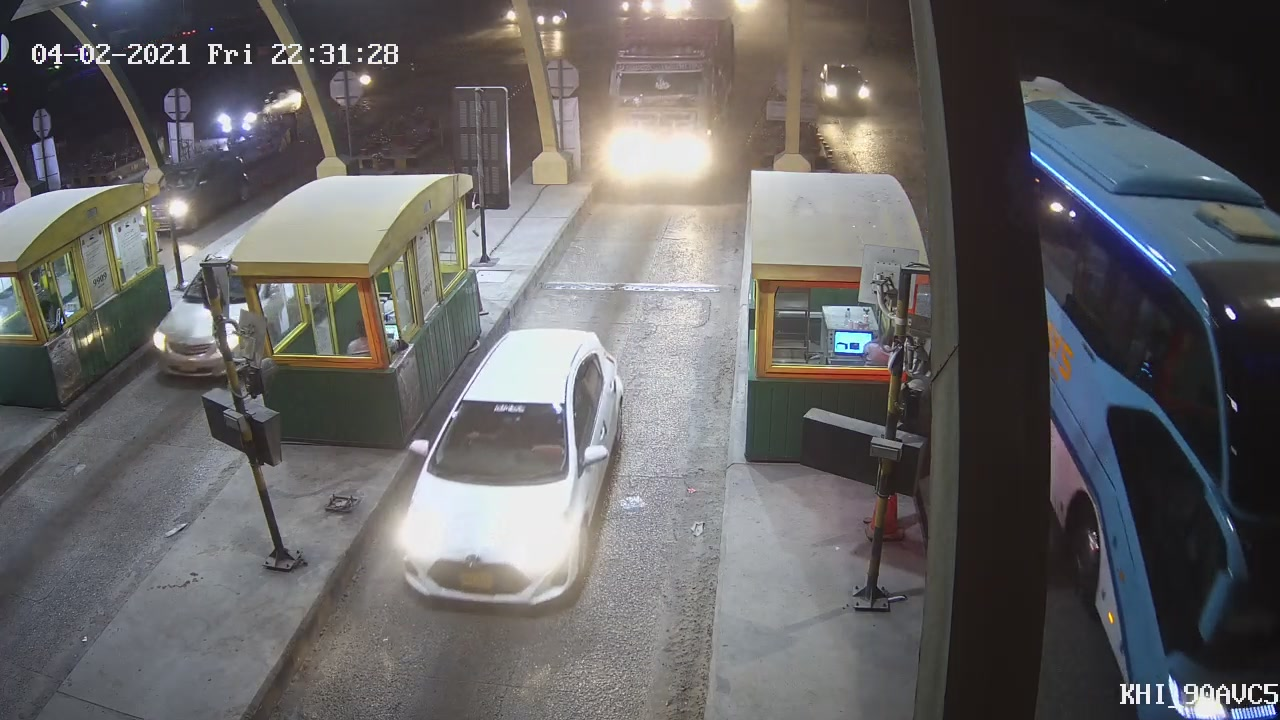F1: (395, 326, 631, 609)
